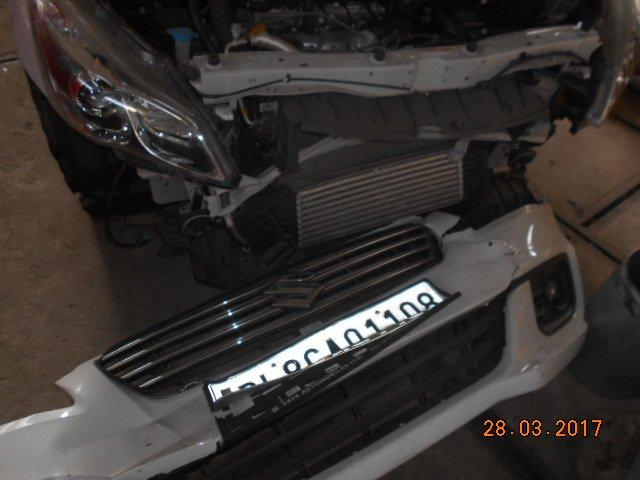Large_tear_or_damage: (21, 22, 612, 263)
